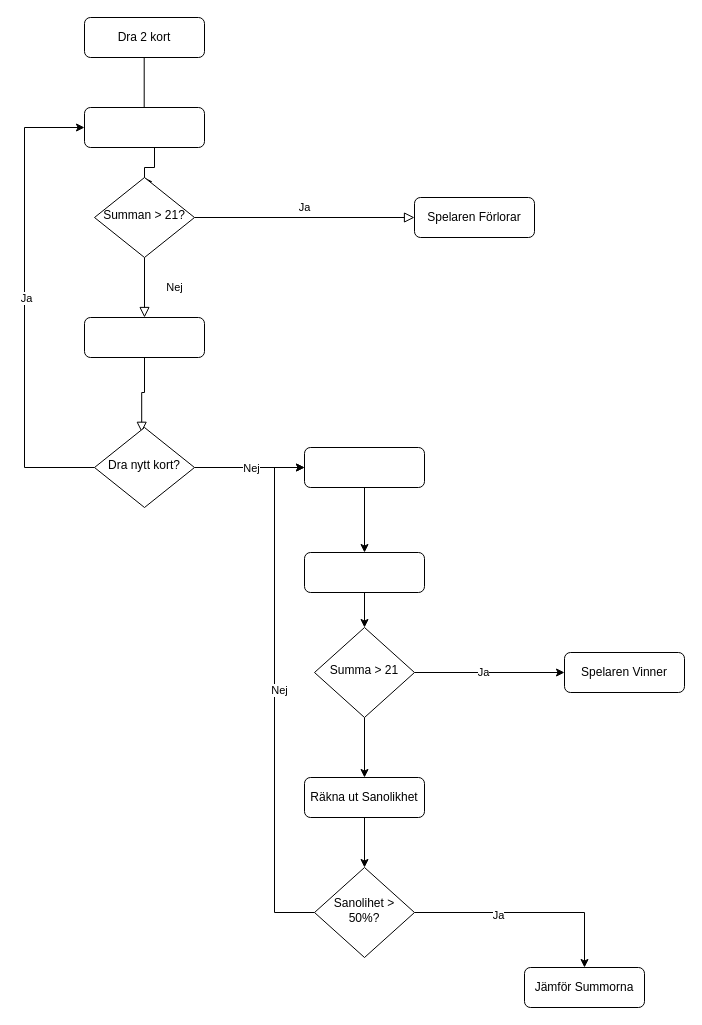
The diagram is 702 pixels wide and 1025 high, and some of its shapes have lost their labels. The centre of each missing label's shape, as x and y in pixels:
Banken Drar Kort: the point at 364,467
Räkna ut sanolikheten: the point at 144,337
Summera Bankens Kort: the point at 364,572
Summera Handen: the point at 144,127
